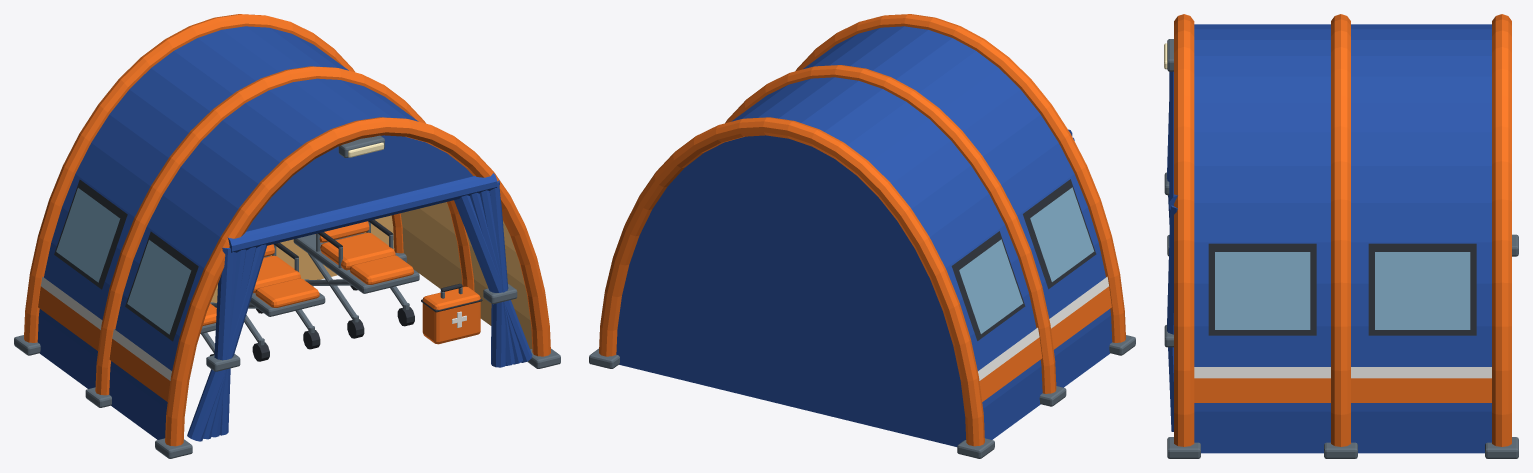
File: SaveZoneTent.fbx
3 renders of one model, left to right at view 1: azimuth 30°, elevation 25°; view 2: azimuth 150°, elevation 25°; view 3: azimuth 270°, elevation 25°, orthographic. The views are drawn at different scales.
Parts seen in each view (by area): view 1: RescueTent, Trolley Right, Trolley Center, First Aid Case; view 2: RescueTent; view 3: RescueTent.
Boxes of the visible parts, x1,y1,x2,y2 form: RescueTent: (14, 14, 560, 458); Trolley Right: (293, 219, 419, 338); Trolley Center: (210, 242, 325, 361); First Aid Case: (421, 283, 482, 344); RescueTent: (589, 14, 1135, 458); RescueTent: (1164, 14, 1518, 458).
Size of the model in its own units: 482 by 335 by 335.
